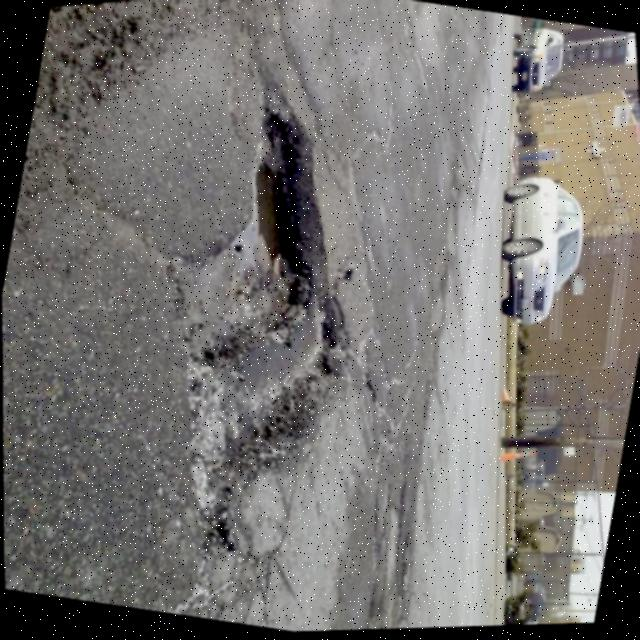Pothole: (138, 90, 376, 381)
